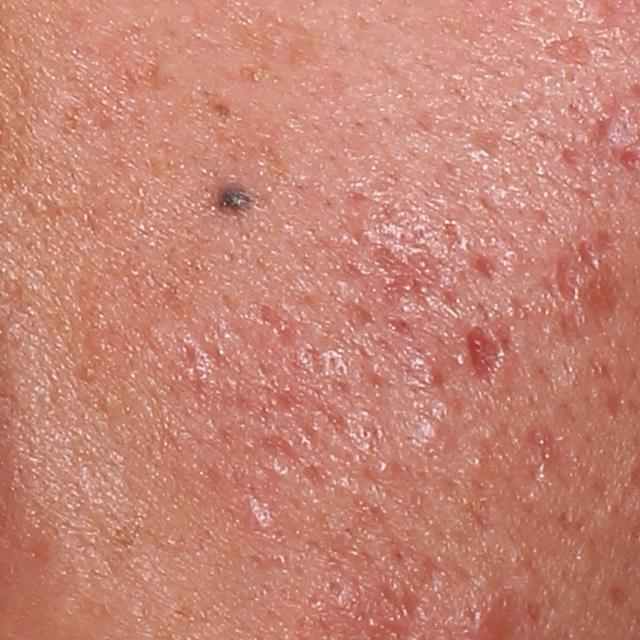atrophic_scar: (554, 232, 634, 341), (366, 246, 446, 303), (463, 324, 502, 390), (535, 33, 599, 70), (468, 122, 511, 157), (472, 246, 509, 286)
nevus: (211, 177, 264, 220)
